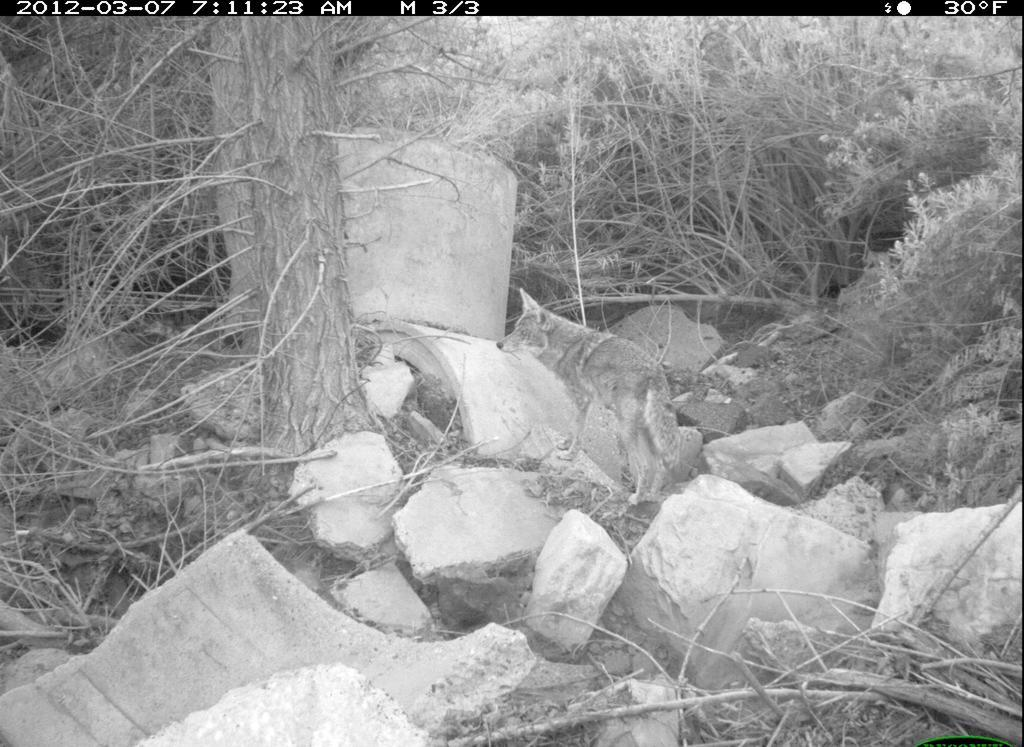coyote: (495, 276, 684, 519)
